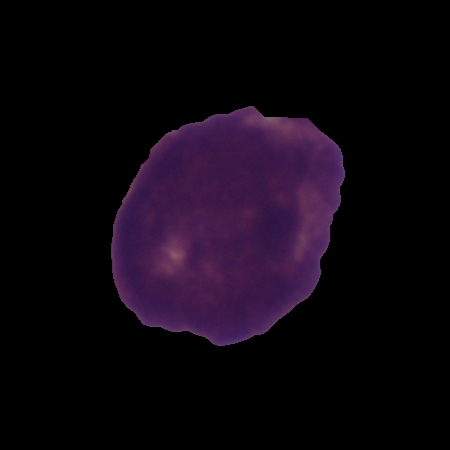ALL: (105, 102, 350, 350)
